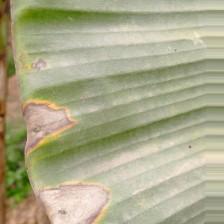cordana: (12, 0, 224, 224)
